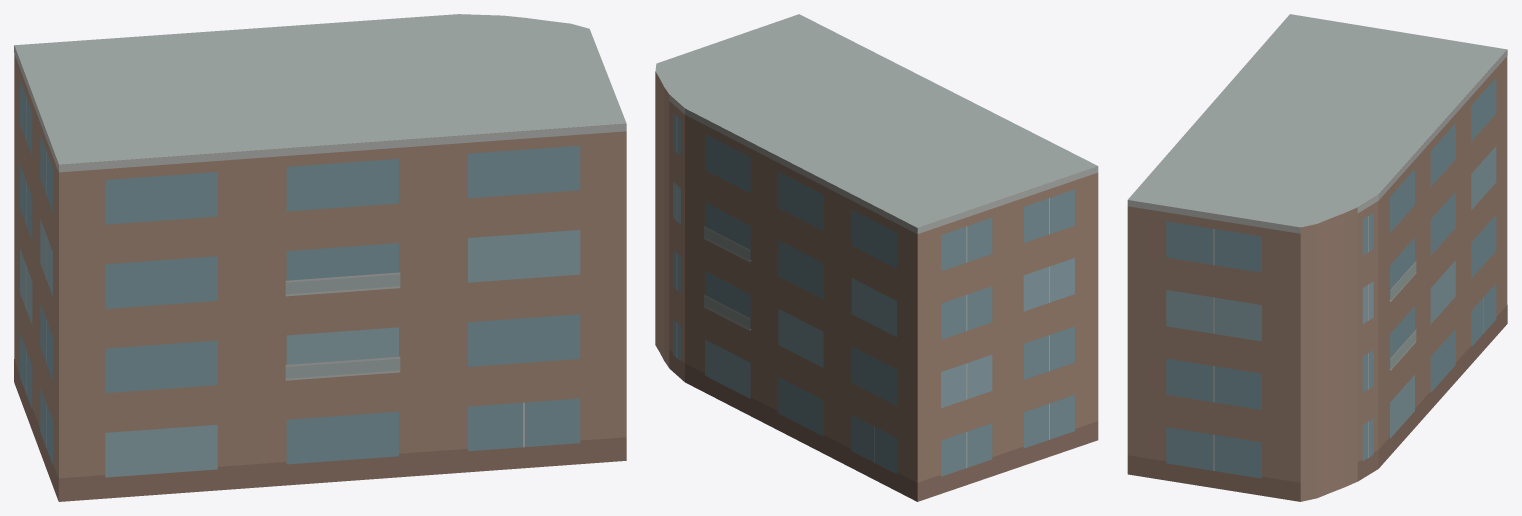
Rendered from survey-upis-32676707.glb.
The picture shows the model from 3 angles, left to right: view 1: azimuth 30°, elevation 25°; view 2: azimuth 150°, elevation 25°; view 3: azimuth 270°, elevation 25°; orthographic projection. The views are drawn at different scales.
Visible parts, largest first — view 1: survey-upis-32676707.tmp; view 2: survey-upis-32676707.tmp; view 3: survey-upis-32676707.tmp.
Boxes of the visible parts, x1,y1,x2,y2 form: survey-upis-32676707.tmp: [14, 14, 626, 501]; survey-upis-32676707.tmp: [655, 14, 1098, 501]; survey-upis-32676707.tmp: [1127, 14, 1507, 501].
Size of the model in its own units: 17.69 by 10.6 by 13.31.
